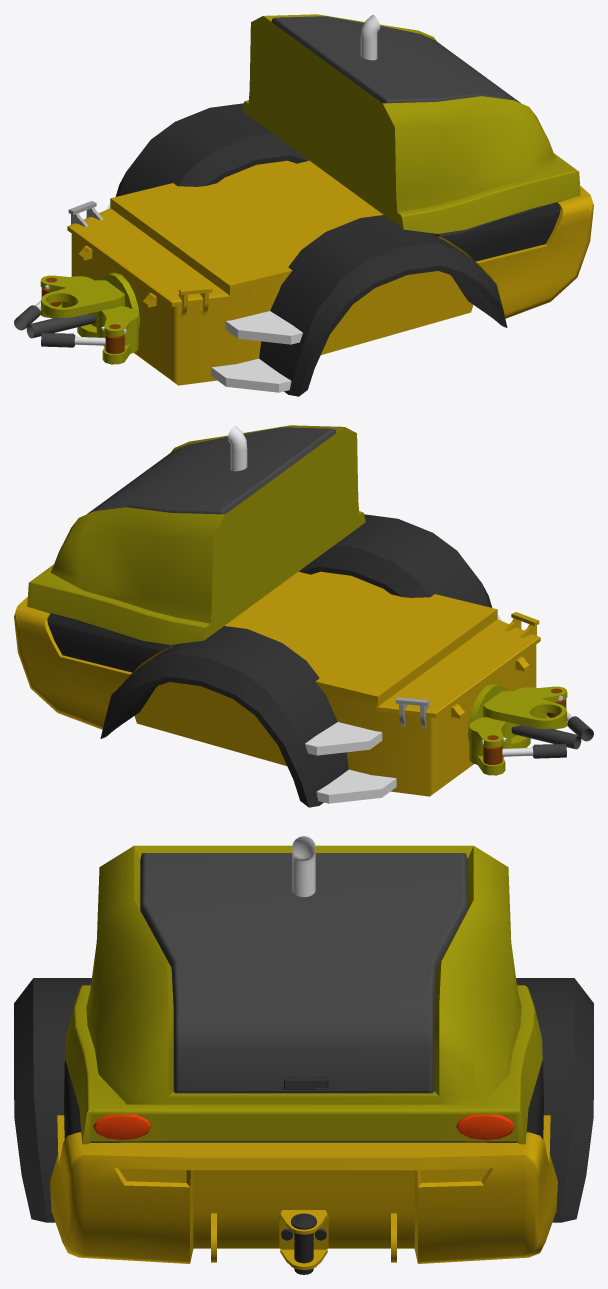
The model's file is JCBTest1of3.fbx.
3 renders of one model, top to bottom at view 1: azimuth 30°, elevation 25°; view 2: azimuth 150°, elevation 25°; view 3: azimuth 270°, elevation 25°, orthographic. The views are drawn at different scales.
Parts seen in each view (by area): view 1: polySurface198, polySurface192, polySurface202; view 2: polySurface198, polySurface192, polySurface202; view 3: polySurface192, polySurface198, polySurface202.
Boxes of the visible parts, x1,y1,x2,y2 form: polySurface198: (67,103,593,396); polySurface192: (242,14,580,237); polySurface202: (14,272,139,364); polySurface198: (14,514,540,807); polySurface192: (27,425,365,648); polySurface202: (468,683,593,775); polySurface192: (65,836,542,1144); polySurface198: (14,978,593,1263); polySurface202: (211,1210,396,1274).
Size of the model in its own units: 15.96 by 8.18 by 11.18.
